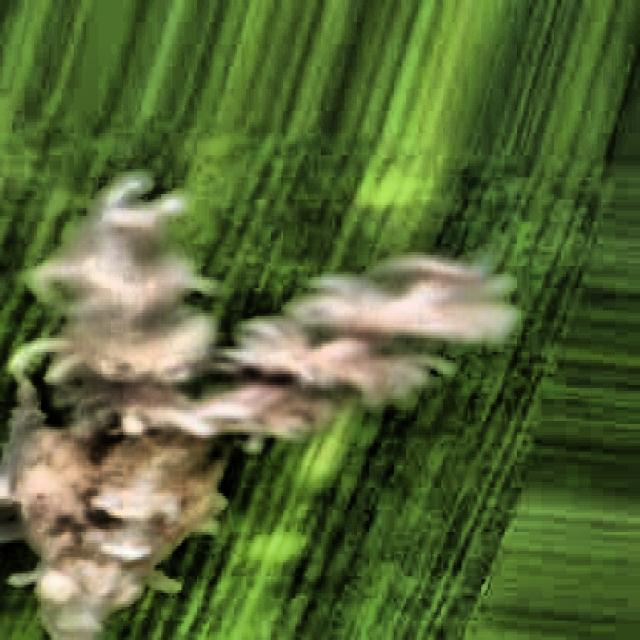Pyrilla-perpusilla: (3, 158, 525, 640)
